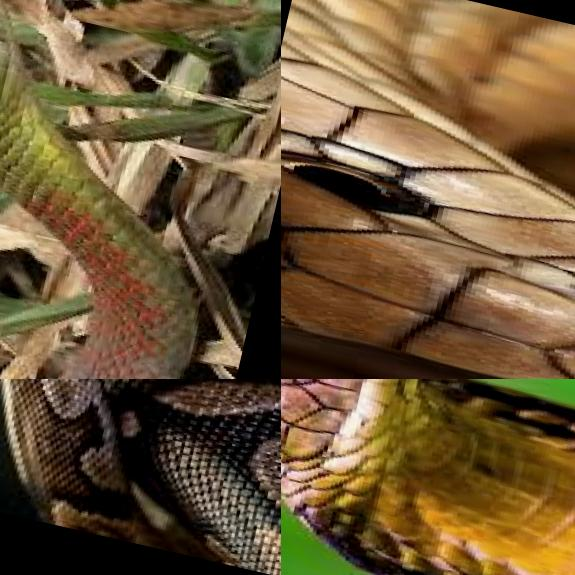2: (0, 0, 281, 379)
5: (281, 0, 575, 379), (281, 379, 575, 575)
snake: (0, 379, 281, 575)
